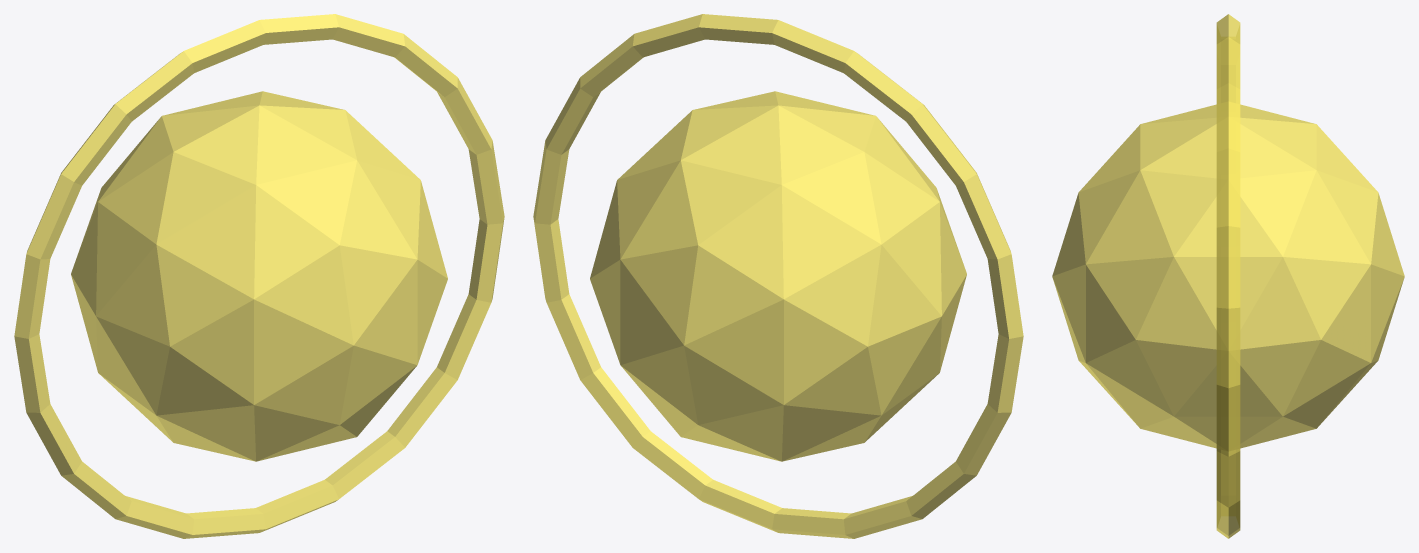
Rendered from fishing_node_marker.glb.
The picture shows the model from 3 angles, left to right: view 1: azimuth 30°, elevation 25°; view 2: azimuth 150°, elevation 25°; view 3: azimuth 270°, elevation 25°; orthographic projection. The views are drawn at different scales.
Visible parts, largest first — view 1: resource_core, resource_ring; view 2: resource_core, resource_ring; view 3: resource_core, resource_ring.
Part boxes in pixels (x1,y1,x2,y2): resource_core: [71, 91, 447, 461]; resource_ring: [14, 14, 504, 538]; resource_core: [590, 91, 966, 461]; resource_ring: [533, 14, 1023, 538]; resource_core: [1052, 104, 1404, 448]; resource_ring: [1216, 14, 1240, 538].
Bounding box in the file's own units: 1.05 × 1.05 × 0.7.
